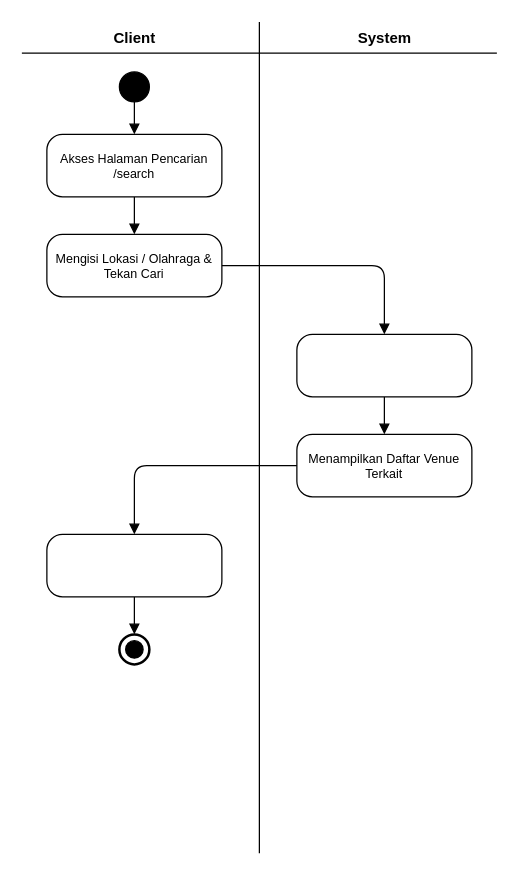
Some shapes in this 520 by 876 pixel diagram are drawn without their labels. The centre of each missing label's shape, as x and y in pixels:
"Melihat Hasil Pencarian Venue" goes at point 134,565.
"Memproses Query Pencarian di Database" goes at point 384,365.
